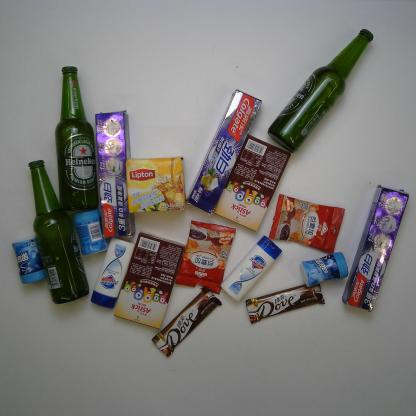Alcohol: (266, 27, 375, 154), (27, 158, 91, 305), (53, 64, 99, 212)
Chocolate: (151, 286, 223, 358), (245, 282, 326, 324)
Dessert: (213, 133, 291, 233), (113, 230, 186, 330)
Gum: (72, 207, 109, 257), (299, 251, 349, 288), (10, 235, 46, 285)
Instant Drink: (174, 219, 238, 295), (268, 193, 345, 254), (124, 155, 186, 214)
Personal Hygiene: (186, 88, 263, 219), (341, 184, 410, 313), (94, 109, 137, 240), (220, 234, 282, 302), (90, 237, 135, 309)
